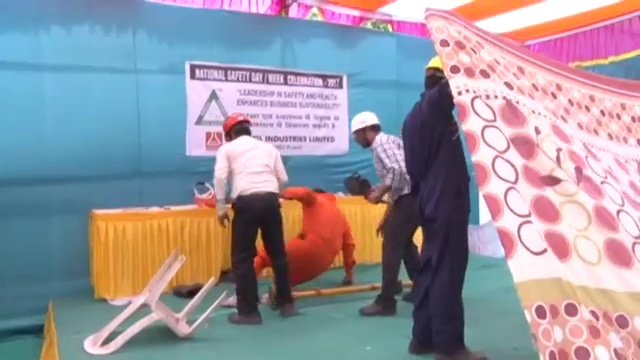helmet: (219, 111, 250, 137), (349, 109, 382, 132), (418, 50, 444, 74)
helmet_on: (350, 108, 384, 150), (419, 51, 446, 102), (220, 111, 254, 143)
person: (402, 53, 488, 360), (211, 111, 296, 321), (348, 108, 415, 317), (256, 182, 357, 285)
